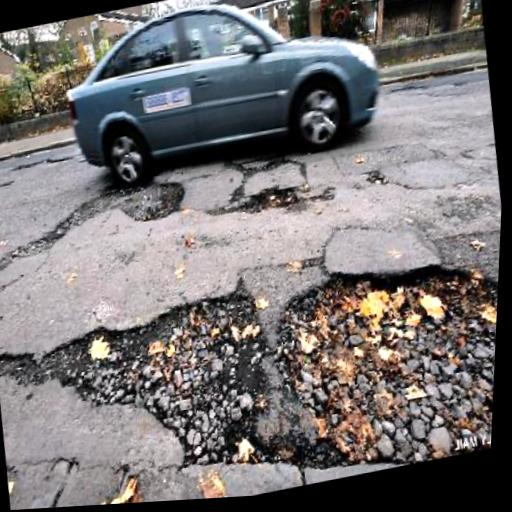pothole: (28, 224, 501, 509), (118, 172, 191, 227), (233, 178, 305, 219)
